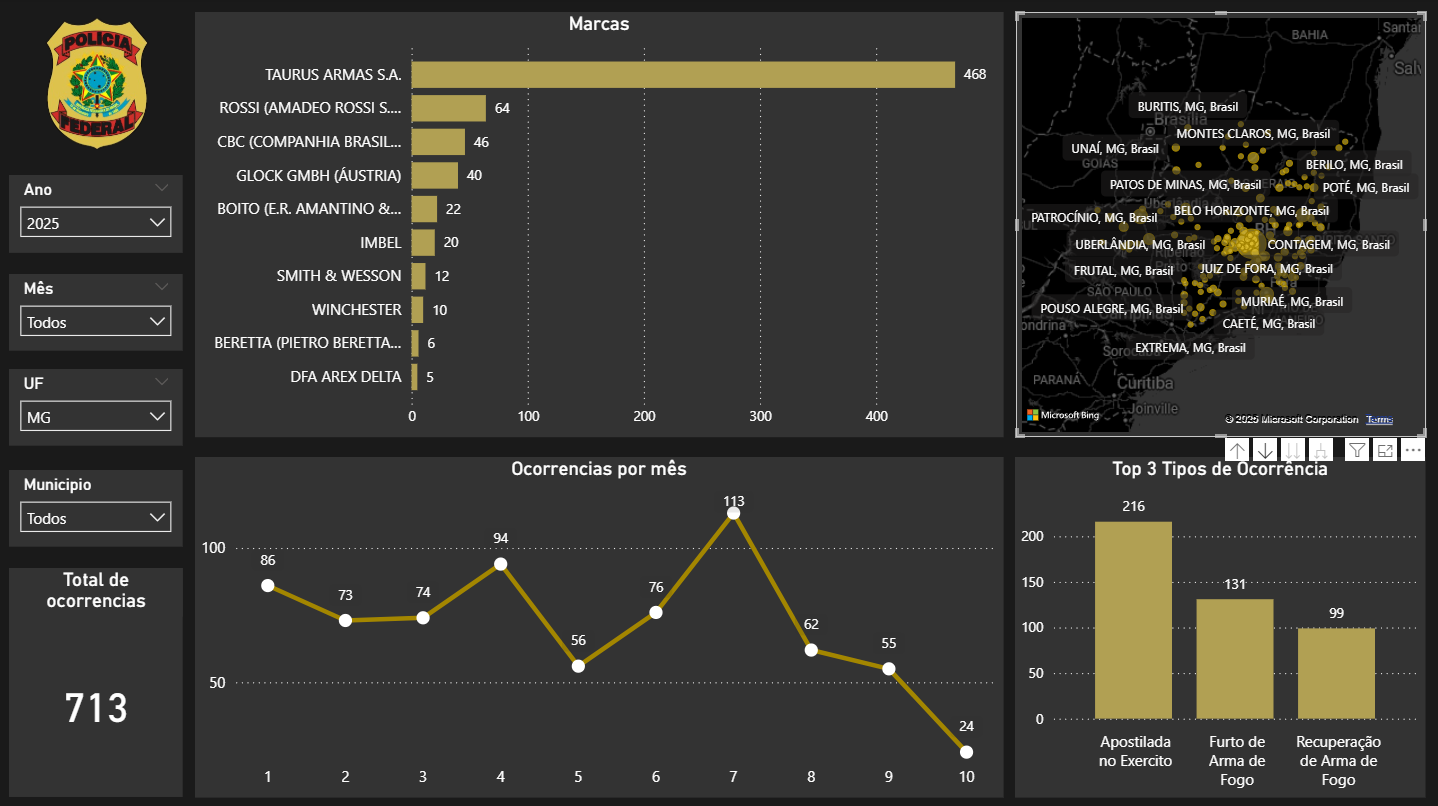

The dashboard page shown, as its layout file describes it:
{"tool":"powerbi","page":{"name":"Analise","canvas":[1280,720],"ordinal":0},"visuals":[{"type":"slicer","fields":{"Values":["OCORRENCIAS.MES"]},"box":[10,244.4,154.4,67.8],"z":0},{"type":"image","box":[21.1,12.2,132.2,126.7],"z":1000},{"type":"map","title":"Estados","fields":{"Category":["OCORRENCIAS.LocalizacaoCompleta","OCORRENCIAS.MUNICIPIO"],"Size":["Sum(OCORRENCIAS.TOTAL)"]},"box":[902.4,12.3,364.2,376.6],"z":2000},{"type":"slicer","fields":{"Values":["OCORRENCIAS.ANO"]},"box":[10,156.7,154.4,68.9],"z":3000},{"type":"lineChart","title":"Ocorrencias por mês","fields":{"Category":["OCORRENCIAS.MES"],"Y":["Sum(OCORRENCIAS.TOTAL)"]},"box":[174.4,406.7,716.7,302.2],"z":4000},{"type":"slicer","fields":{"Values":["OCORRENCIAS.UF"]},"box":[10,328.9,154.4,67.8],"z":5000},{"type":"slicer","fields":{"Values":["OCORRENCIAS.MUNICIPIO"]},"box":[10,418.9,154.4,67.8],"z":6000},{"type":"card","title":"Total de ocorrencias","fields":{"Values":["Sum(OCORRENCIAS.TOTAL)"]},"box":[10,505.6,154.4,203.3],"z":8000},{"type":"clusteredColumnChart","title":"Top 3 Tipos de Ocorrência","fields":{"Y":["Sum(OCORRENCIAS.TOTAL)"],"Category":["OCORRENCIAS.TIPO_OCORRENCIA"]},"box":[902,407,364,302],"z":9000},{"type":"clusteredBarChart","title":"Marcas","fields":{"Category":["OCORRENCIAS.MARCA","OCORRENCIAS.ESPECIE_ARMA"],"Y":["Sum(OCORRENCIAS.TOTAL)"]},"box":[174.4,12.2,716.7,376.7],"z":9002}]}

Visuals, with their boxes in screenshot pixels (x1, y1, x2, y2), scaled from the page's 1280x720 canvas onto the 1438x806 screenshot:
slicer - OCORRENCIAS.MES: 11/274/185/349
image: 24/14/172/155
"Estados" map: 1014/14/1423/435
slicer - OCORRENCIAS.ANO: 11/175/185/253
"Ocorrencias por mês" lineChart: 196/455/1001/794
slicer - OCORRENCIAS.UF: 11/368/185/444
slicer - OCORRENCIAS.MUNICIPIO: 11/469/185/545
"Total de ocorrencias" card: 11/566/185/794
"Top 3 Tipos de Ocorrência" clusteredColumnChart: 1013/456/1422/794
"Marcas" clusteredBarChart: 196/14/1001/435
